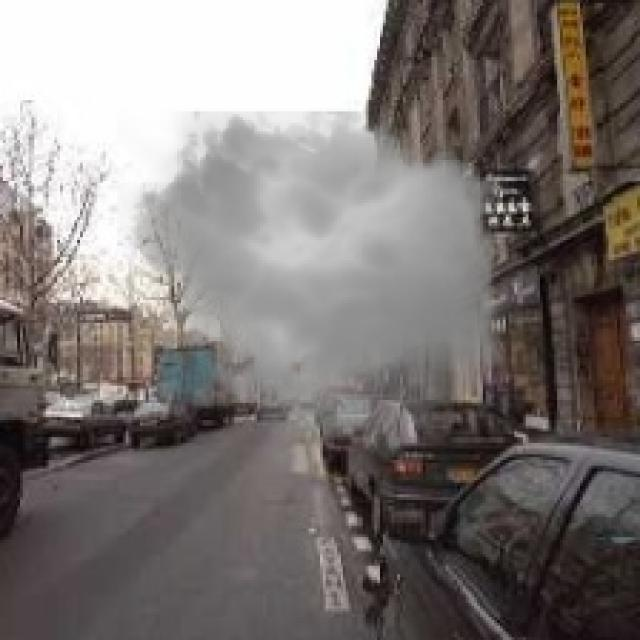smoke: (117, 94, 523, 452)
